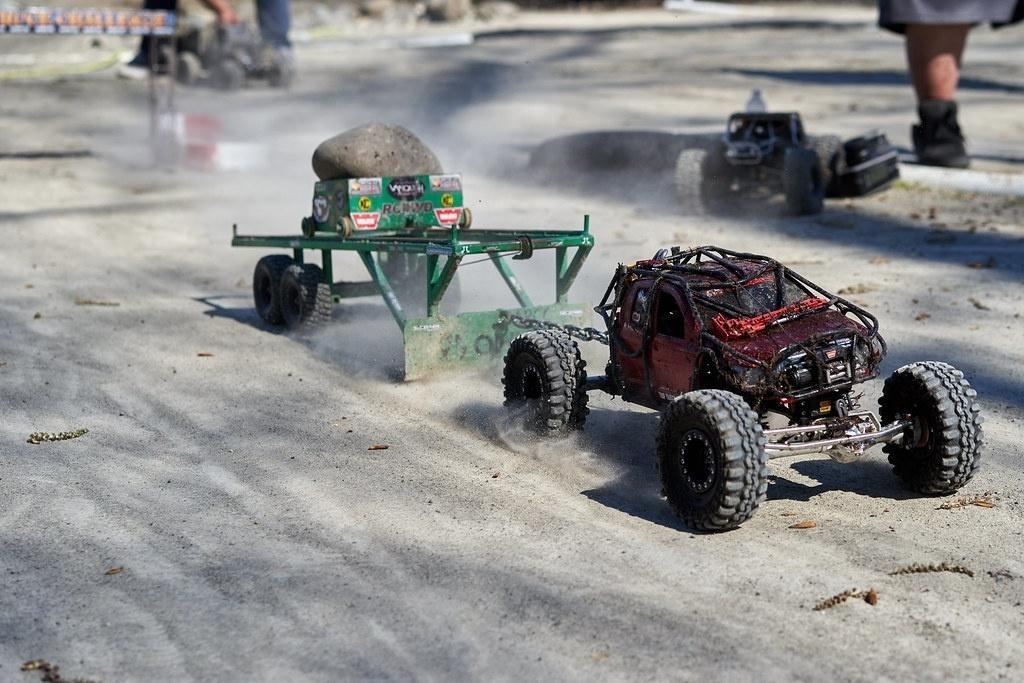Car: (547, 211, 1014, 571)
